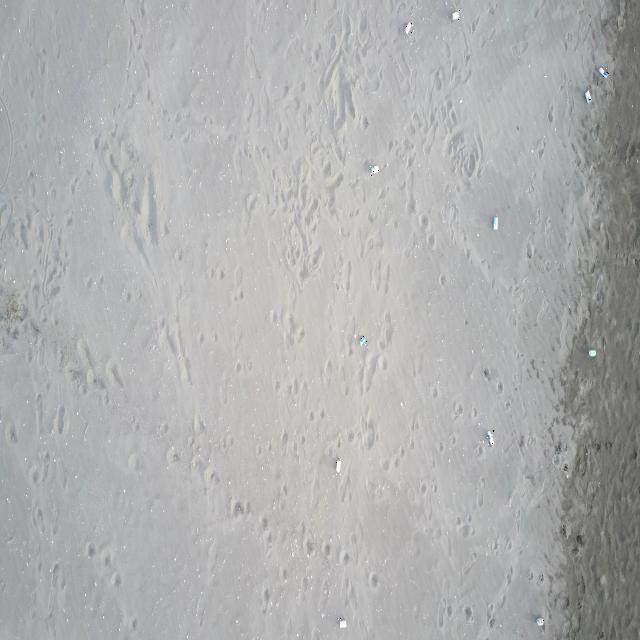Garbage: (369, 164, 379, 175), (584, 88, 591, 103), (597, 67, 607, 77), (452, 8, 460, 20), (535, 616, 544, 626), (487, 430, 493, 444), (404, 23, 412, 33), (335, 457, 340, 472), (339, 617, 346, 627), (492, 216, 497, 230), (587, 348, 595, 356), (359, 335, 365, 344)
